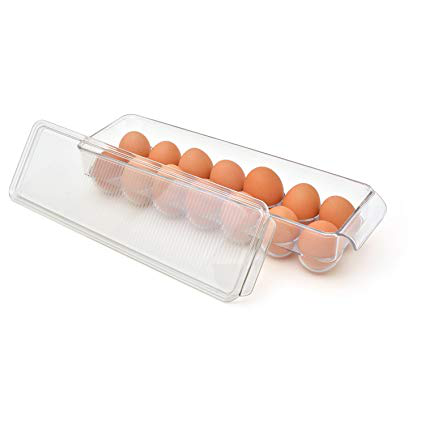egg: (87, 125, 361, 262)
